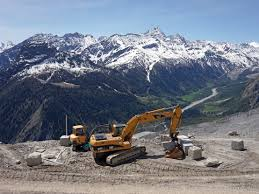excavator: (93, 105, 187, 170)
